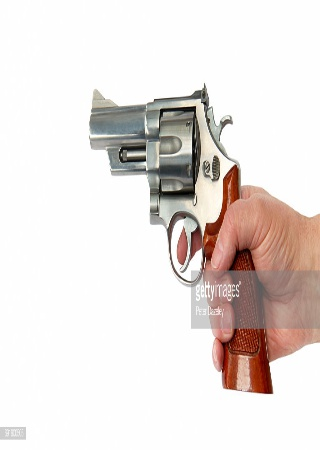handgun: (88, 84, 275, 396)
